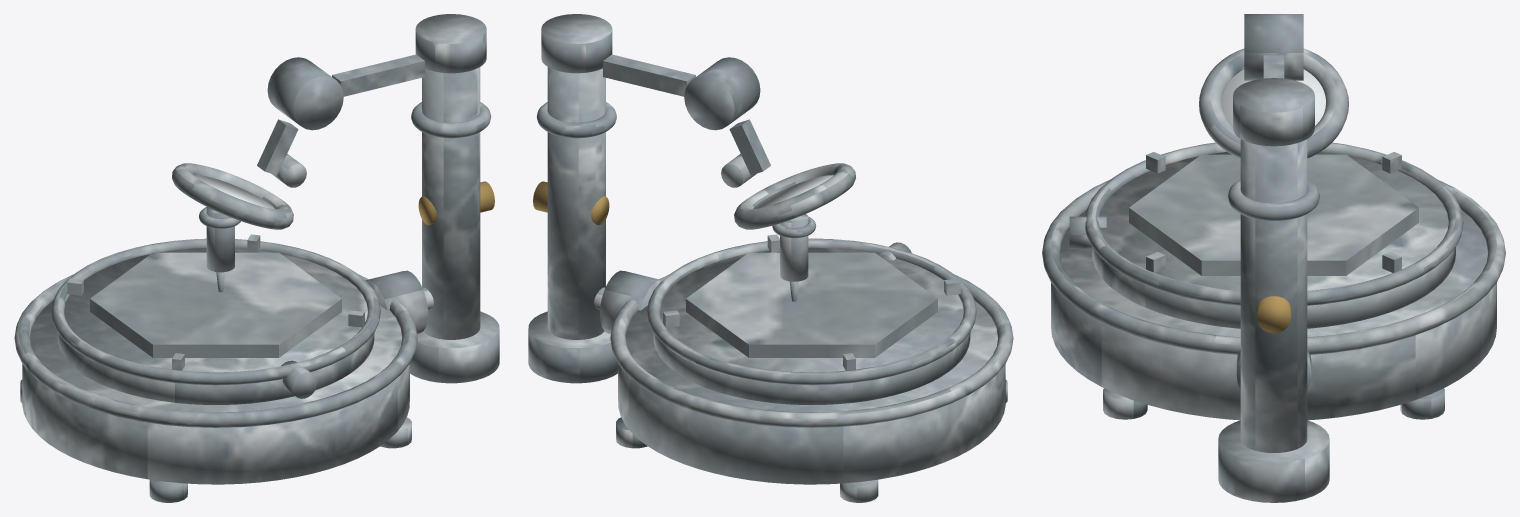
The model's file is SM_Prop_OpticalReader.fbx.
The picture shows the model from 3 angles, left to right: view 1: azimuth 30°, elevation 25°; view 2: azimuth 150°, elevation 25°; view 3: azimuth 270°, elevation 25°; orthographic projection. The views are drawn at different scales.
Visible parts, largest first — view 1: rd-base, rd-hex-plate, rd-ring, rd-pillar, rd-base-rim, rd-ring-top, rd-pillar-base, rd-elbow, rd-mag-ring, rd-pillar-cap, rd-arm1, rd-crank-boss (+8 smaller); view 2: rd-base, rd-hex-plate, rd-ring, rd-pillar, rd-base-rim, rd-ring-top, rd-pillar-base, rd-elbow, rd-mag-ring, rd-pillar-cap, rd-arm1, rd-crank-boss (+7 smaller); view 3: rd-base, rd-hex-plate, rd-pillar, rd-ring, rd-base-rim, rd-ring-top, rd-pillar-base, rd-mag-ring, rd-pillar-cap, rd-elbow, rd-pillar-collar, rd-mag-glass (+5 smaller).
Boxes of the visible parts, bbox=[...] form: rd-base: bbox=[22, 300, 409, 484]; rd-hex-plate: bbox=[90, 252, 341, 357]; rd-ring: bbox=[57, 248, 374, 404]; rd-pillar: bbox=[422, 67, 480, 339]; rd-base-rim: bbox=[14, 274, 417, 427]; rd-ring-top: bbox=[51, 238, 380, 385]; rd-pillar-base: bbox=[410, 311, 499, 383]; rd-elbow: bbox=[267, 57, 343, 130]; rd-mag-ring: bbox=[172, 163, 293, 229]; rd-pillar-cap: bbox=[415, 14, 486, 73]; rd-arm1: bbox=[332, 54, 424, 96]; rd-crank-boss: bbox=[365, 270, 427, 333]; rd-base: bbox=[618, 300, 1005, 484]; rd-hex-plate: bbox=[686, 252, 937, 357]; rd-ring: bbox=[653, 247, 970, 404]; rd-pillar: bbox=[547, 67, 605, 339]; rd-base-rim: bbox=[610, 274, 1013, 427]; rd-ring-top: bbox=[647, 238, 976, 385]; rd-pillar-base: bbox=[528, 311, 617, 383]; rd-elbow: bbox=[684, 57, 760, 130]; rd-mag-ring: bbox=[734, 163, 855, 229]; rd-pillar-cap: bbox=[541, 14, 612, 73]; rd-arm1: bbox=[603, 54, 695, 96]; rd-crank-boss: bbox=[600, 270, 662, 333]; rd-base: bbox=[1051, 209, 1496, 420]; rd-hex-plate: bbox=[1129, 154, 1418, 275]; rd-pillar: bbox=[1240, 139, 1307, 452]; rd-ring: bbox=[1092, 151, 1455, 328]; rd-base-rim: bbox=[1042, 179, 1505, 354]; rd-ring-top: bbox=[1085, 142, 1463, 305]; rd-pillar-base: bbox=[1218, 420, 1329, 502]; rd-mag-ring: bbox=[1199, 48, 1348, 158]; rd-pillar-cap: bbox=[1233, 78, 1314, 146]; rd-elbow: bbox=[1244, 14, 1303, 80]; rd-pillar-collar: bbox=[1228, 179, 1319, 220]; rd-mag-glass: bbox=[1222, 69, 1325, 125].
Bounding box in the file's own units: 80.7 × 57 × 62.4.
Materials: 4 (2 with a texture image).
